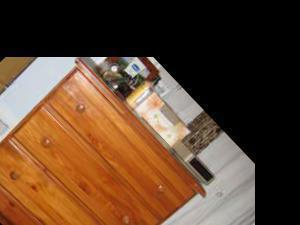Armario: (0, 55, 204, 225)
